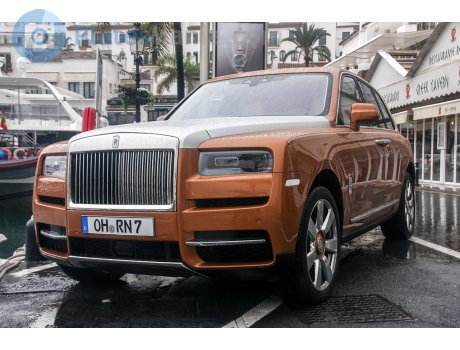License Plates: (89, 216, 151, 230)
